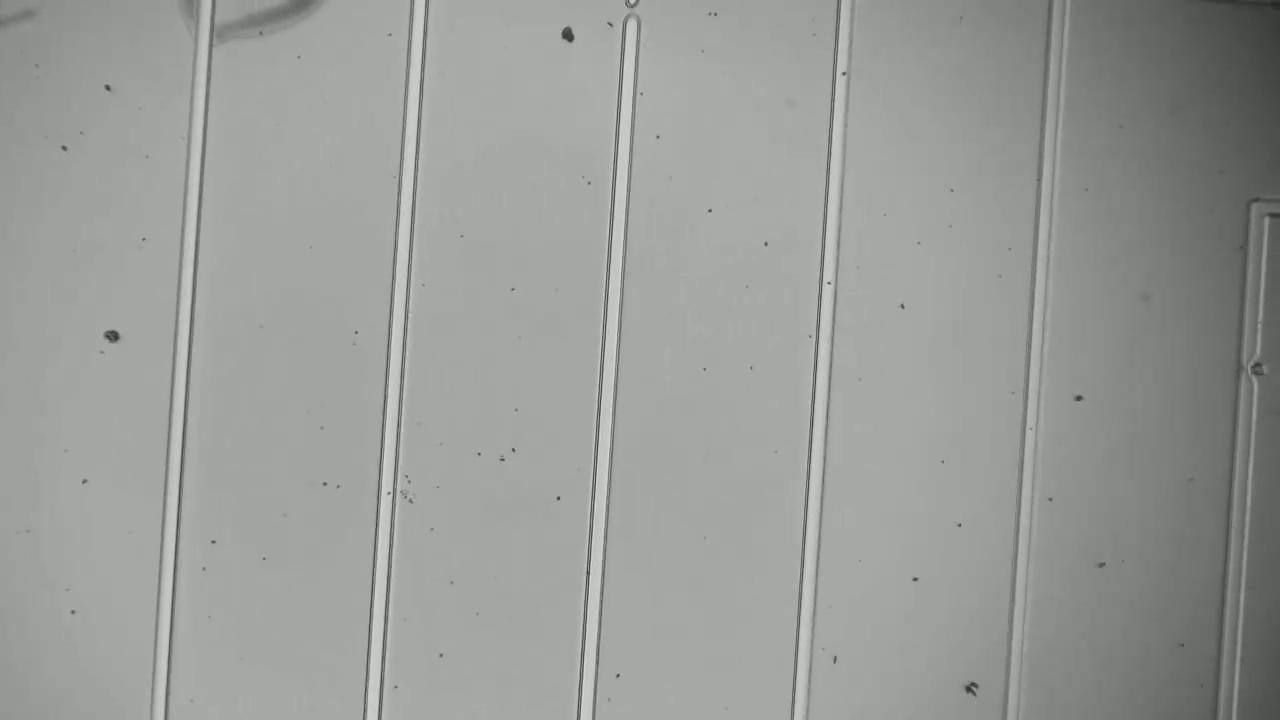edge_bite: (1228, 345, 1273, 390)
open: (606, 1, 658, 36)
